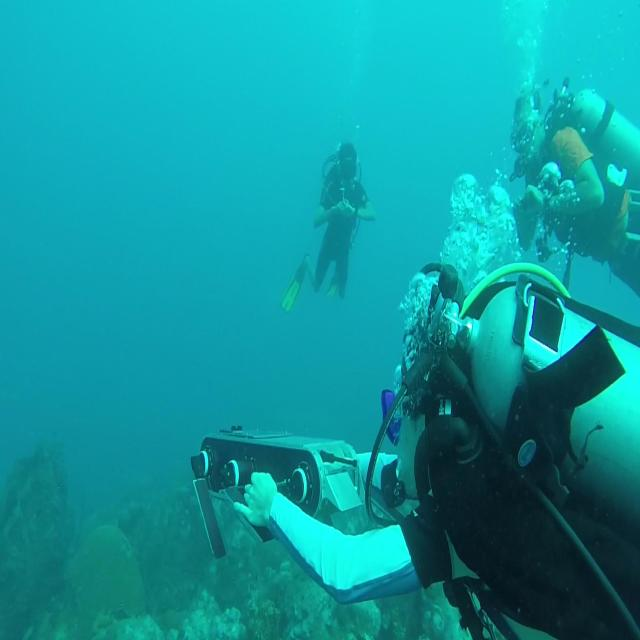human: (219, 261, 639, 638), (509, 78, 639, 298), (280, 140, 375, 313)
